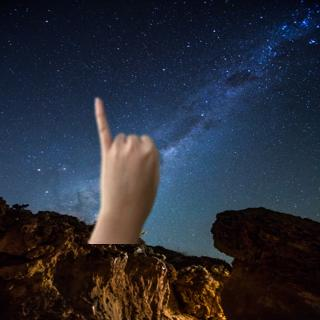Fine: (78, 93, 165, 243)
